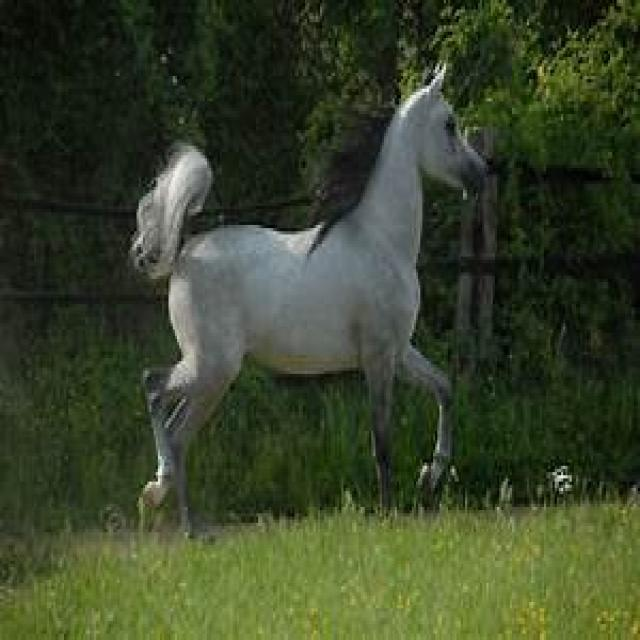horse: (130, 76, 491, 539)
